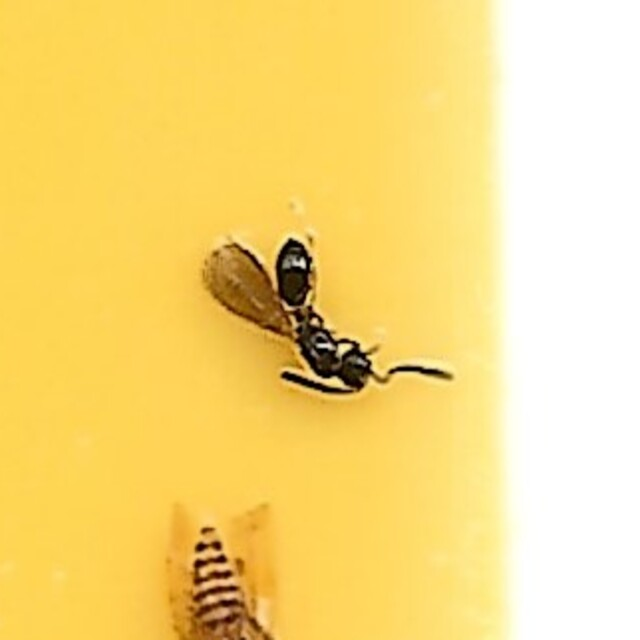Hymenoptera: (199, 234, 441, 406)
